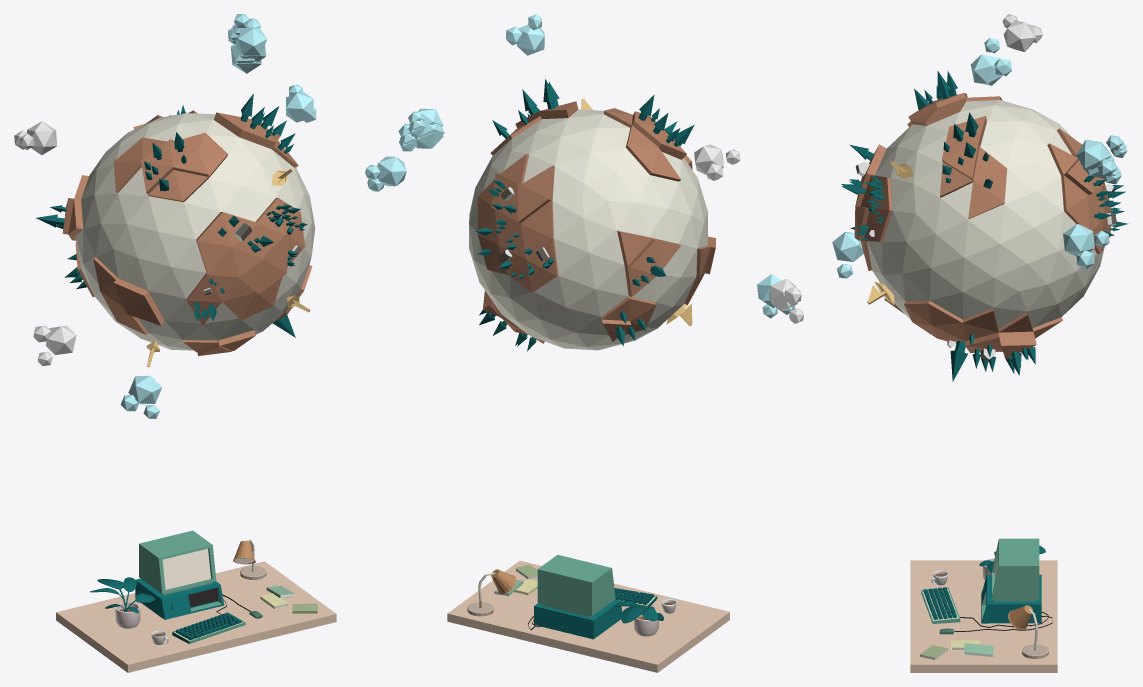
File: globetest5.glb
3 views of the same model, side by side, from view 1: azimuth 30°, elevation 25°; view 2: azimuth 150°, elevation 25°; view 3: azimuth 270°, elevation 25° (orthographic). The views are drawn at different scales.
Parts seen in each view (by area): view 1: Icosphere.001, Icosphere, Plane.003, Plane.004, Plane.079, Plane.001, tabletops.001, Plane.047, Icosphere.008, Icosphere.007, Icosphere.003, Cylinder.004 (+4 smaller); view 2: Icosphere.001, Icosphere, Plane.003, Plane.004, Plane.079, Plane.001, Icosphere.020, Icosphere.003, Icosphere.007, tabletops.001, Cylinder.004; view 3: Icosphere.001, Icosphere, Plane.003, Plane.079, Plane.004, Icosphere.020, Plane.001, Icosphere.003, Icosphere.007, Plane.047, Icosphere.008, Cylinder.004 (+3 smaller).
Part boxes in pixels (x1,y1,x2,y2): Icosphere.001: [75, 113, 315, 350]; Icosphere: [62, 110, 312, 355]; Plane.003: [56, 561, 336, 672]; Plane.004: [139, 530, 216, 595]; Plane.079: [36, 94, 307, 337]; Plane.001: [135, 578, 224, 619]; tabletops.001: [90, 577, 154, 628]; Plane.047: [172, 612, 245, 643]; Icosphere.008: [120, 375, 162, 418]; Icosphere.007: [234, 14, 266, 55]; Icosphere.003: [286, 84, 316, 122]; Cylinder.004: [233, 539, 266, 579]; Icosphere.001: [469, 109, 707, 350]; Icosphere: [477, 101, 716, 343]; Plane.003: [447, 560, 729, 672]; Plane.004: [537, 554, 615, 617]; Plane.079: [475, 79, 694, 351]; Plane.001: [534, 599, 622, 639]; Icosphere.020: [398, 108, 444, 151]; Icosphere.003: [365, 156, 406, 191]; Icosphere.007: [506, 14, 544, 55]; tabletops.001: [614, 600, 663, 636]; Cylinder.004: [467, 569, 516, 616]; Icosphere.001: [867, 100, 1104, 328]; Icosphere: [854, 93, 1110, 359]; Plane.003: [910, 560, 1057, 672]; Plane.079: [841, 71, 1128, 381]; Plane.004: [991, 538, 1039, 601]; Icosphere.020: [1076, 135, 1127, 184]; Plane.001: [981, 574, 1041, 623]; Icosphere.003: [1063, 223, 1109, 269]; Icosphere.007: [970, 38, 1012, 85]; Plane.047: [921, 587, 960, 623]; Icosphere.008: [832, 232, 863, 278]; Cylinder.004: [1008, 605, 1048, 658].
Bounding box in the file's own units: 3.49 × 5.54 × 2.45.
